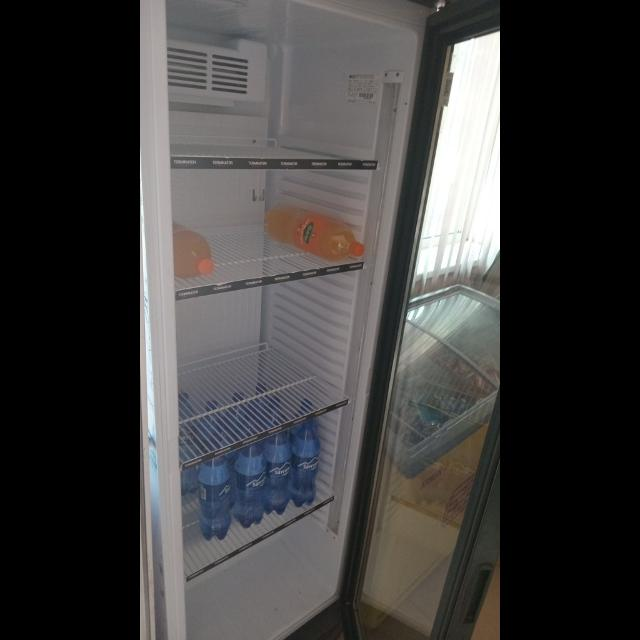Cooling-Display: (140, 1, 454, 640)
